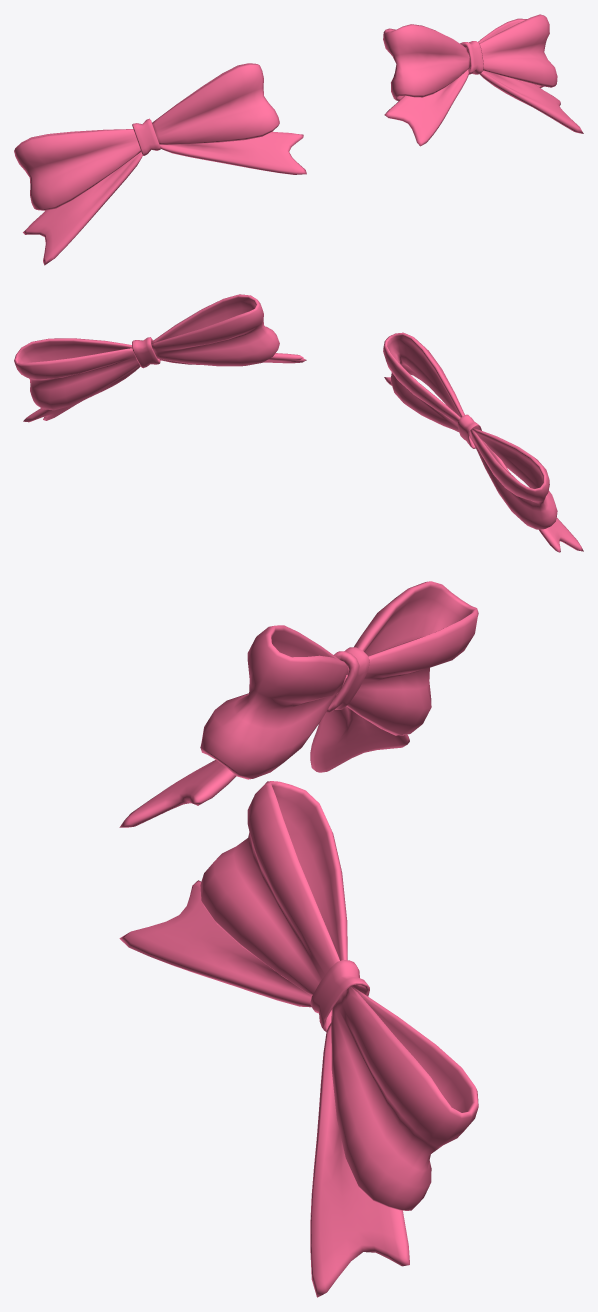
Rendered from Ribbon_pin.glb.
The picture shows the model from 3 angles, top to bottom: view 1: azimuth 30°, elevation 25°; view 2: azimuth 150°, elevation 25°; view 3: azimuth 270°, elevation 25°; orthographic projection. The views are drawn at different scales.
Parts seen in each view (by area): view 1: ribbon_L; view 2: ribbon_L; view 3: ribbon_L.
Part boxes in pixels (box(x1,y1,x2,y2)): ribbon_L: box(14, 14, 583, 265); ribbon_L: box(14, 294, 583, 552); ribbon_L: box(119, 581, 478, 1297).
Bounding box in the file's own units: 0.0453 × 0.0131 × 0.0131.
